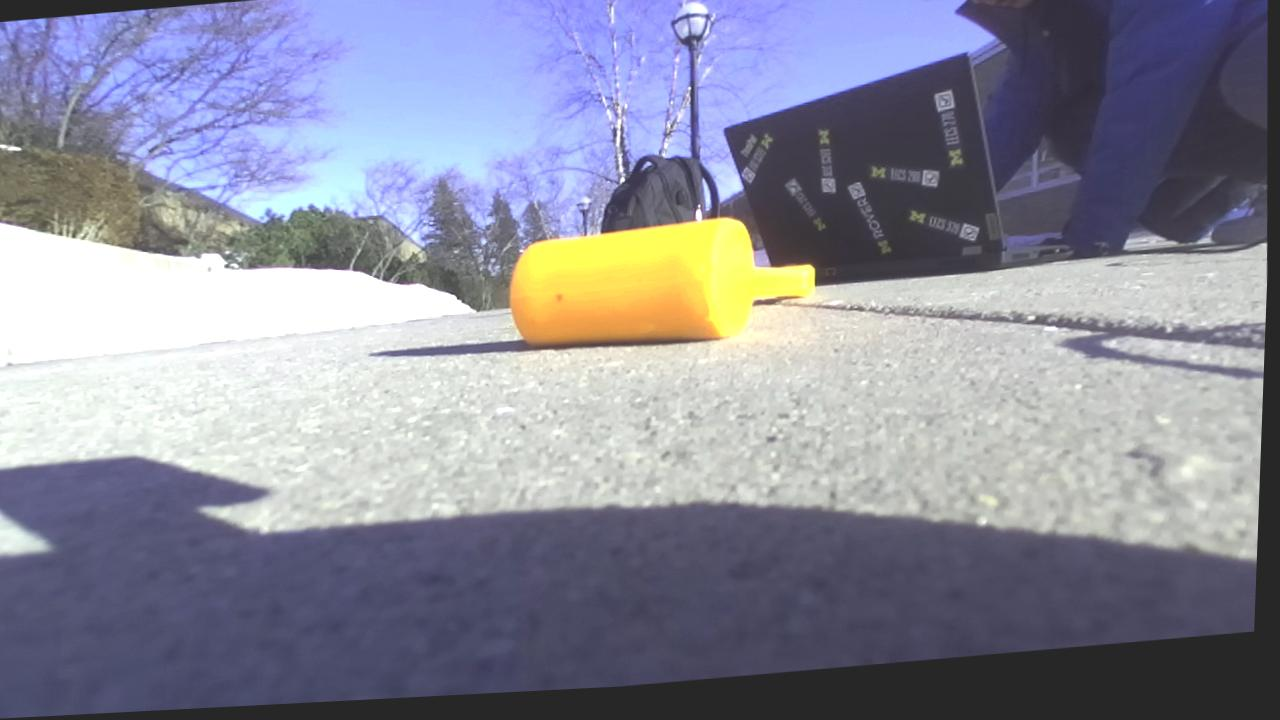mallet: (511, 218, 757, 346)
